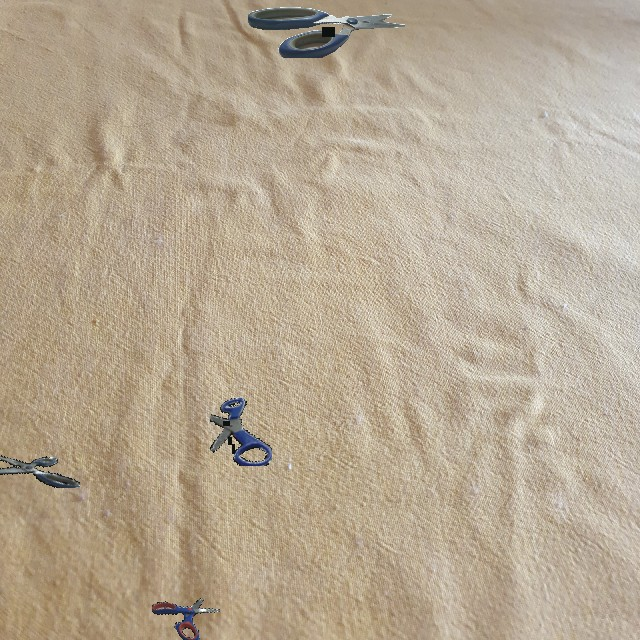scissors: (248, 7, 405, 58), (210, 397, 272, 466), (152, 598, 220, 640), (0, 455, 80, 488)
